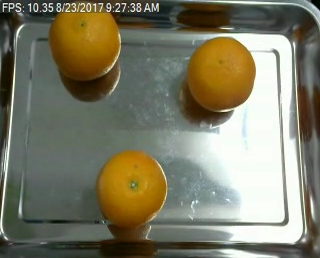Orange: (96, 150, 167, 227), (187, 37, 256, 112), (50, 7, 120, 80)
